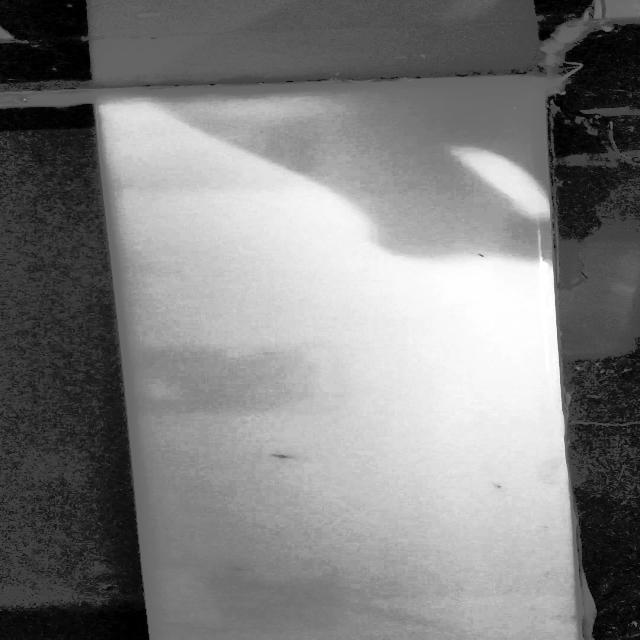shrimp: (260, 446, 302, 470)
